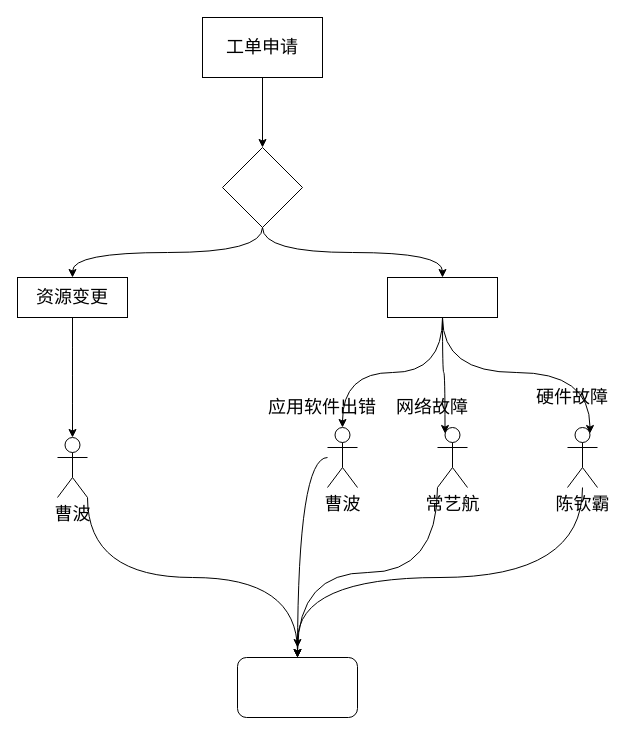
Some shapes in this 635 by 735 pixel diagram are drawn without their labels. Here are the shapes that lost their labels. From the top down, the centre of each, then its label:
At (x=262, y=187): "两种情况".
At (x=442, y=297): "服务器故障".
At (x=297, y=687): "归档".
